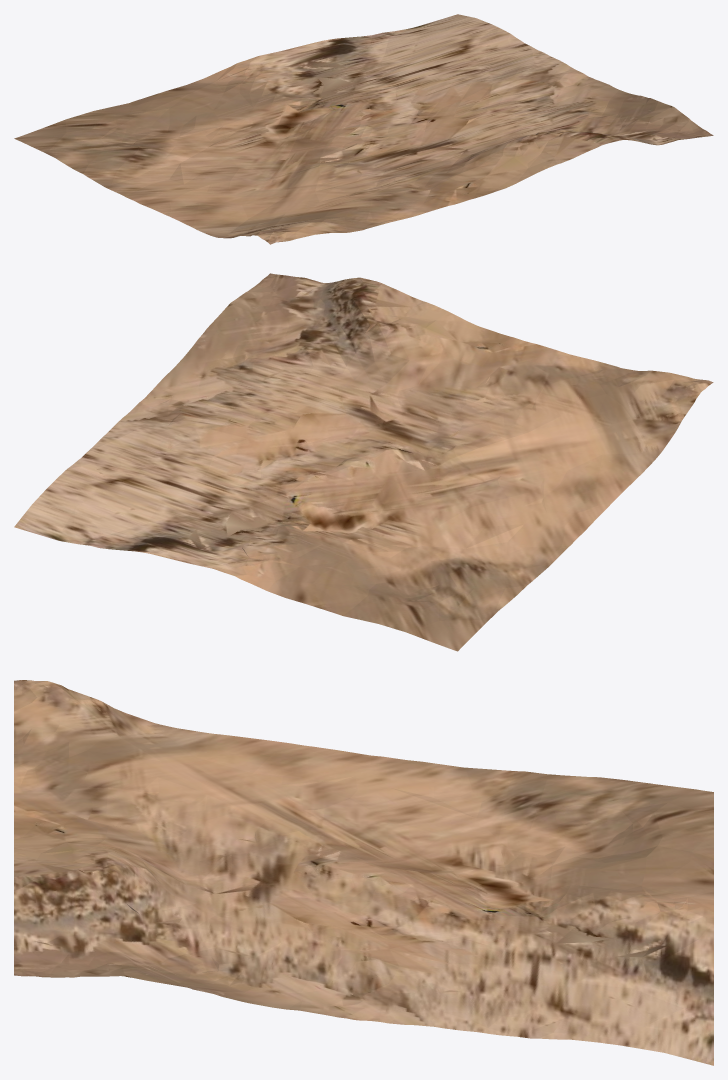
The picture shows the model from 3 angles, top to bottom: view 1: azimuth 30°, elevation 25°; view 2: azimuth 150°, elevation 25°; view 3: azimuth 270°, elevation 25°; orthographic projection. The views are drawn at different scales.
Bounding box in the file's own units: 2.09 × 0.4513 × 2.09.
2 materials, 2 textured.
